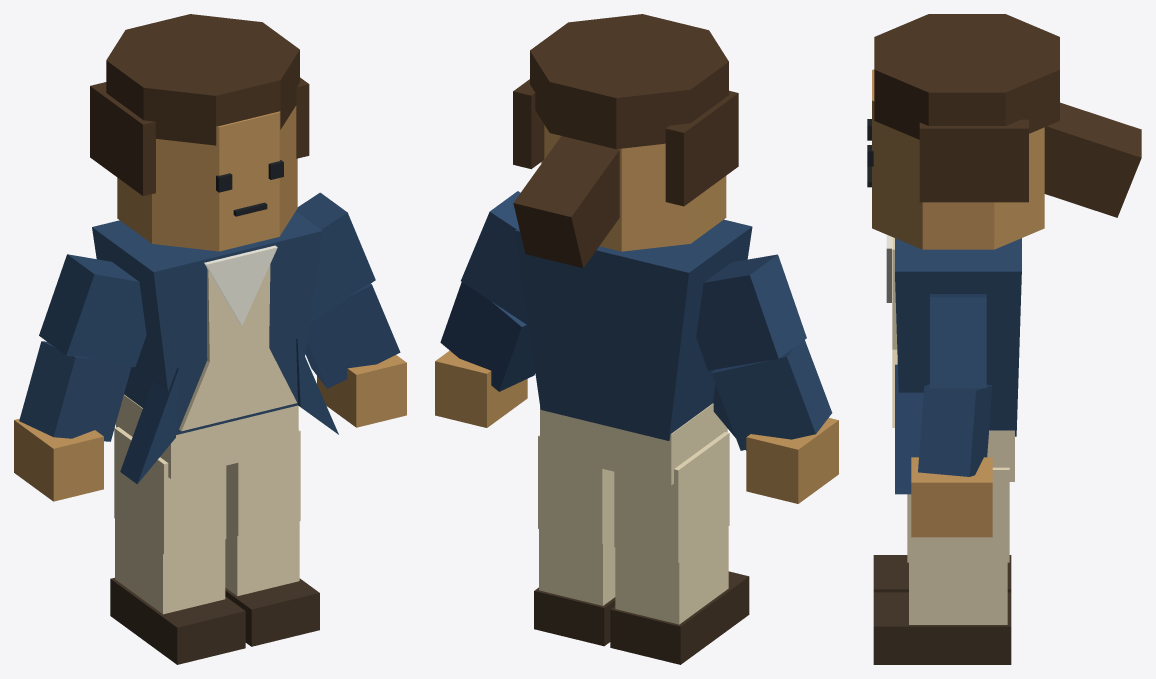
The model's file is Hamilton.glb.
3 renders of one model, left to right at view 1: azimuth 30°, elevation 25°; view 2: azimuth 150°, elevation 25°; view 3: azimuth 270°, elevation 25°, orthographic. The views are drawn at different scales.
Visible parts, largest first — view 1: Body_M_CastV02_hair_4d3722, Body_M_CastV02_navy_2c4b6f, Body_M_CastV02_skin_c8995b, ArmLeft_M_CastV02_navy_2c4b6f, Body_M_CastV02_cream_f1e3bf, LegLeft_M_CastV02_cream_f1e3bf, ArmRight_M_CastV02_navy_2c4b6f, LegRight_M_CastV02_cream_f1e3bf, LegLeft, ArmLeft_M_CastV02_skin_c8995b, ArmRight_M_CastV02_skin_c8995b, LegRight (+1 smaller); view 2: Body_M_CastV02_hair_4d3722, Body_M_CastV02_navy_2c4b6f, ArmLeft_M_CastV02_navy_2c4b6f, LegLeft_M_CastV02_cream_f1e3bf, ArmRight_M_CastV02_navy_2c4b6f, LegRight_M_CastV02_cream_f1e3bf, Body_M_CastV02_skin_c8995b, Body_M_CastV02_cream_f1e3bf, LegLeft, ArmLeft_M_CastV02_skin_c8995b, ArmRight_M_CastV02_skin_c8995b, LegRight; view 3: Body_M_CastV02_hair_4d3722, Body_M_CastV02_navy_2c4b6f, Body_M_CastV02_skin_c8995b, ArmRight_M_CastV02_navy_2c4b6f, LegRight_M_CastV02_cream_f1e3bf, LegRight, ArmRight_M_CastV02_skin_c8995b, Body_M_CastV02_cream_f1e3bf, LegLeft.
Part boxes in pixels (box(x1,y1,x2,y2)): Body_M_CastV02_hair_4d3722: box(90, 14, 309, 196); Body_M_CastV02_navy_2c4b6f: box(92, 211, 338, 484); Body_M_CastV02_skin_c8995b: box(117, 105, 297, 251); ArmLeft_M_CastV02_navy_2c4b6f: box(19, 254, 146, 441); Body_M_CastV02_cream_f1e3bf: box(116, 264, 298, 478); LegLeft_M_CastV02_cream_f1e3bf: box(114, 427, 226, 614); ArmRight_M_CastV02_navy_2c4b6f: box(296, 192, 400, 388); LegRight_M_CastV02_cream_f1e3bf: box(225, 430, 300, 596); LegLeft: box(110, 577, 245, 664); ArmLeft_M_CastV02_skin_c8995b: box(14, 418, 103, 501); ArmRight_M_CastV02_skin_c8995b: box(317, 355, 406, 427); LegRight: box(225, 578, 319, 646); Body_M_CastV02_hair_4d3722: box(513, 14, 738, 268); Body_M_CastV02_navy_2c4b6f: box(515, 219, 752, 450); ArmLeft_M_CastV02_navy_2c4b6f: box(696, 254, 832, 450); LegLeft_M_CastV02_cream_f1e3bf: box(614, 432, 729, 624); ArmRight_M_CastV02_navy_2c4b6f: box(440, 191, 535, 391); LegRight_M_CastV02_cream_f1e3bf: box(538, 435, 615, 605); Body_M_CastV02_skin_c8995b: box(541, 125, 726, 251); Body_M_CastV02_cream_f1e3bf: box(540, 403, 727, 485); LegLeft: box(610, 571, 749, 664); ArmLeft_M_CastV02_skin_c8995b: box(746, 418, 838, 503); ArmRight_M_CastV02_skin_c8995b: box(435, 350, 527, 427); LegRight: box(534, 587, 615, 646); Body_M_CastV02_hair_4d3722: box(874, 14, 1141, 217); Body_M_CastV02_navy_2c4b6f: box(895, 238, 1021, 494); Body_M_CastV02_skin_c8995b: box(872, 69, 1044, 249); ArmRight_M_CastV02_navy_2c4b6f: box(918, 294, 992, 476); LegRight_M_CastV02_cream_f1e3bf: box(907, 467, 1009, 624); LegRight: box(873, 592, 1011, 664); ArmRight_M_CastV02_skin_c8995b: box(911, 457, 992, 537); Body_M_CastV02_cream_f1e3bf: box(892, 237, 1014, 481); LegLeft: box(873, 555, 1011, 592).
Size of the model in its own units: 1.23 by 1.8 by 0.7773.
